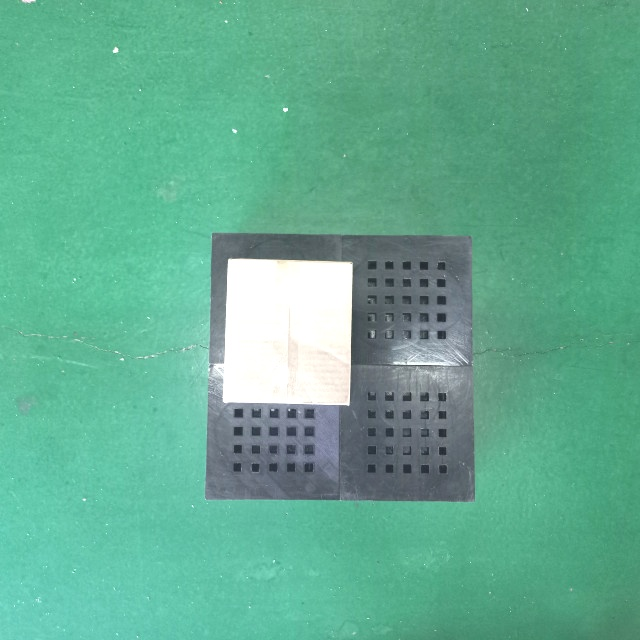box: (223, 254, 356, 408)
pallet: (207, 232, 478, 506)
